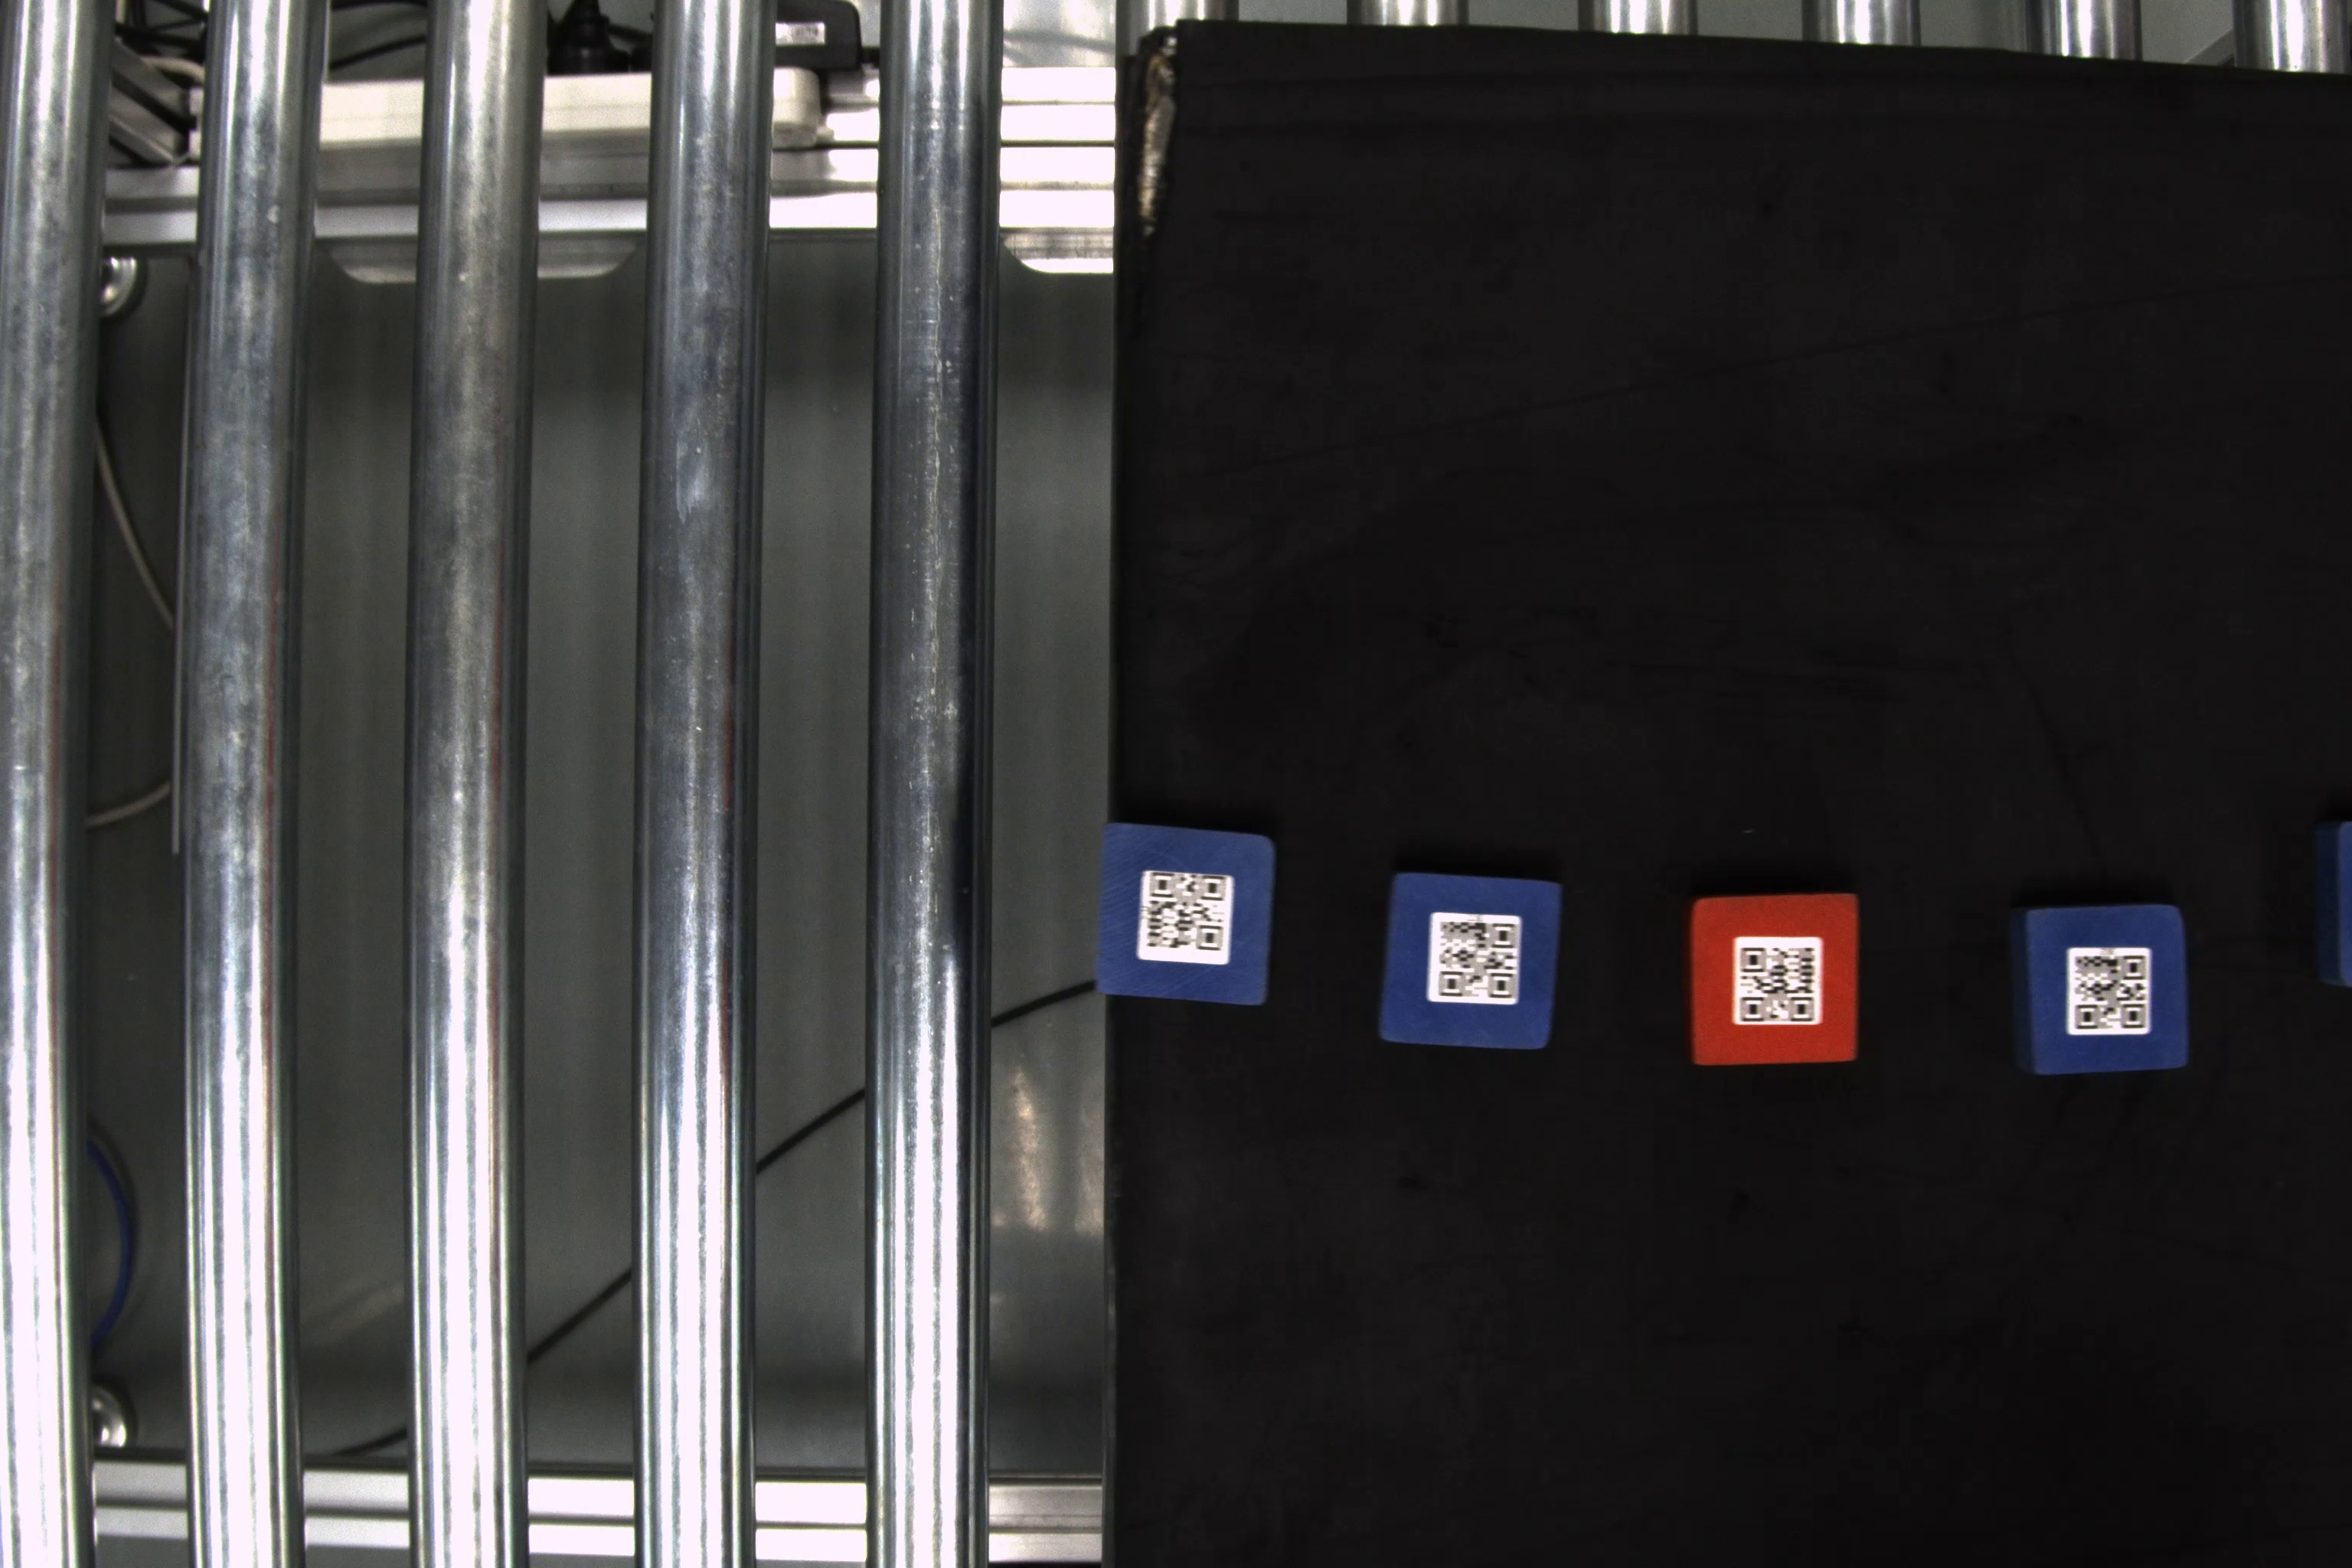wood: (1094, 819, 1279, 1011), (1384, 868, 1570, 1053), (1682, 889, 1864, 1071), (2011, 899, 2193, 1078)
